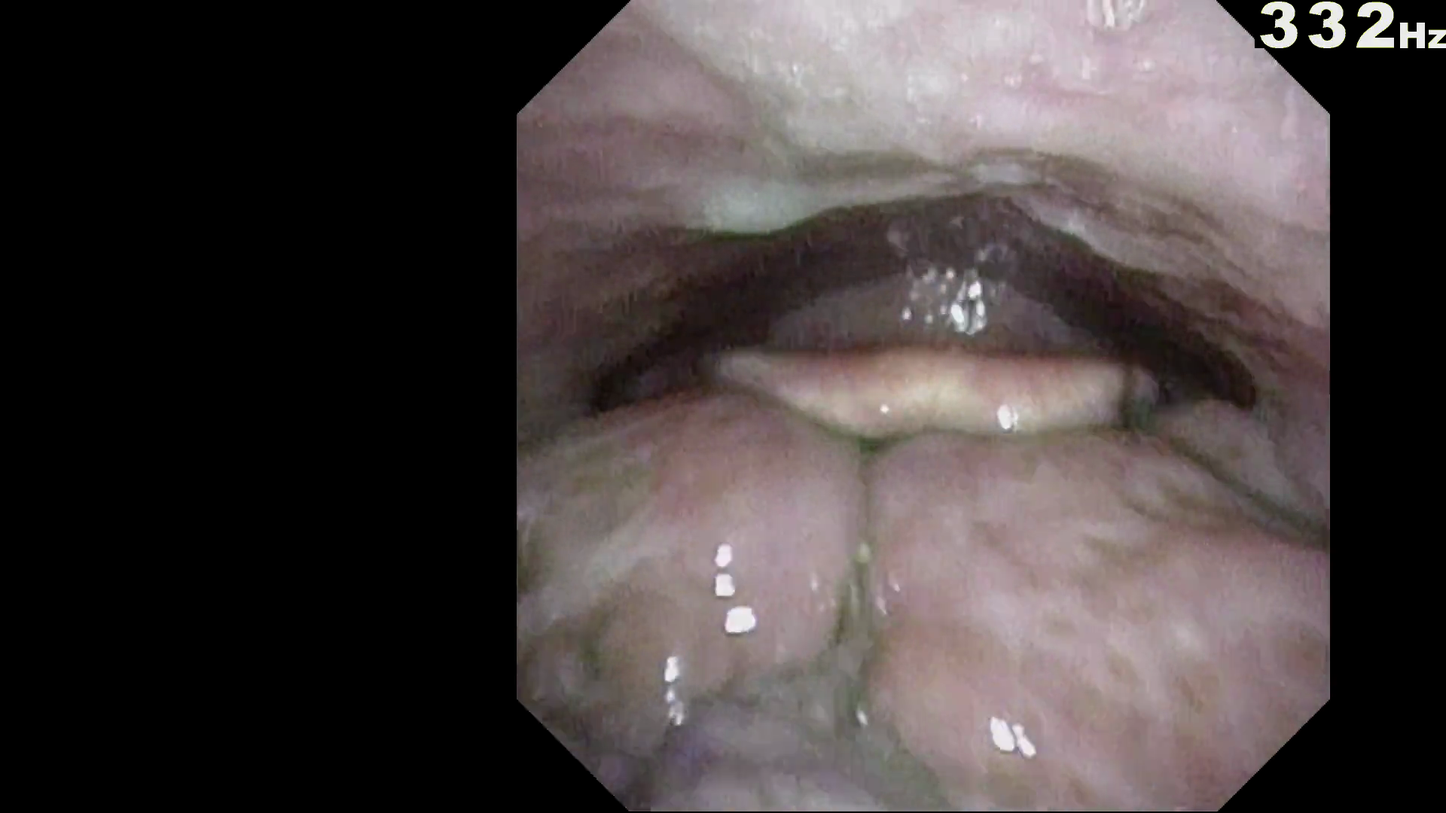epiglottis: (652, 406, 1187, 532)
trachea: (845, 414, 1005, 486)
